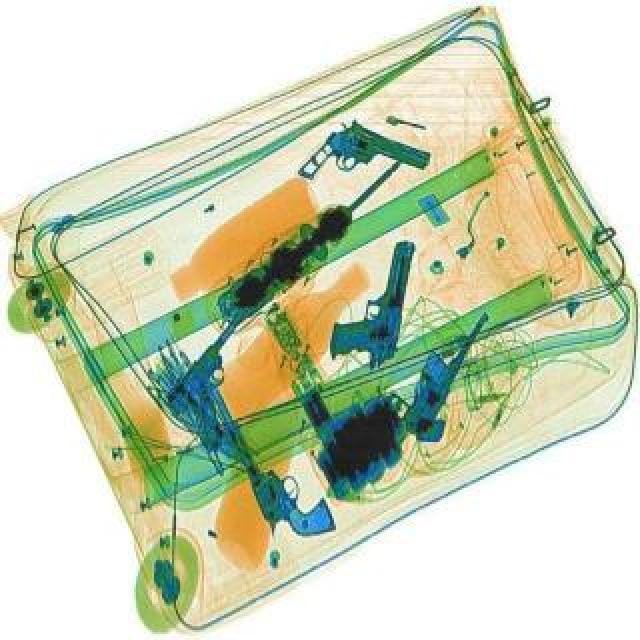gun: (208, 360, 340, 552), (154, 306, 298, 458), (376, 294, 492, 442), (298, 110, 438, 218), (326, 234, 422, 376)
